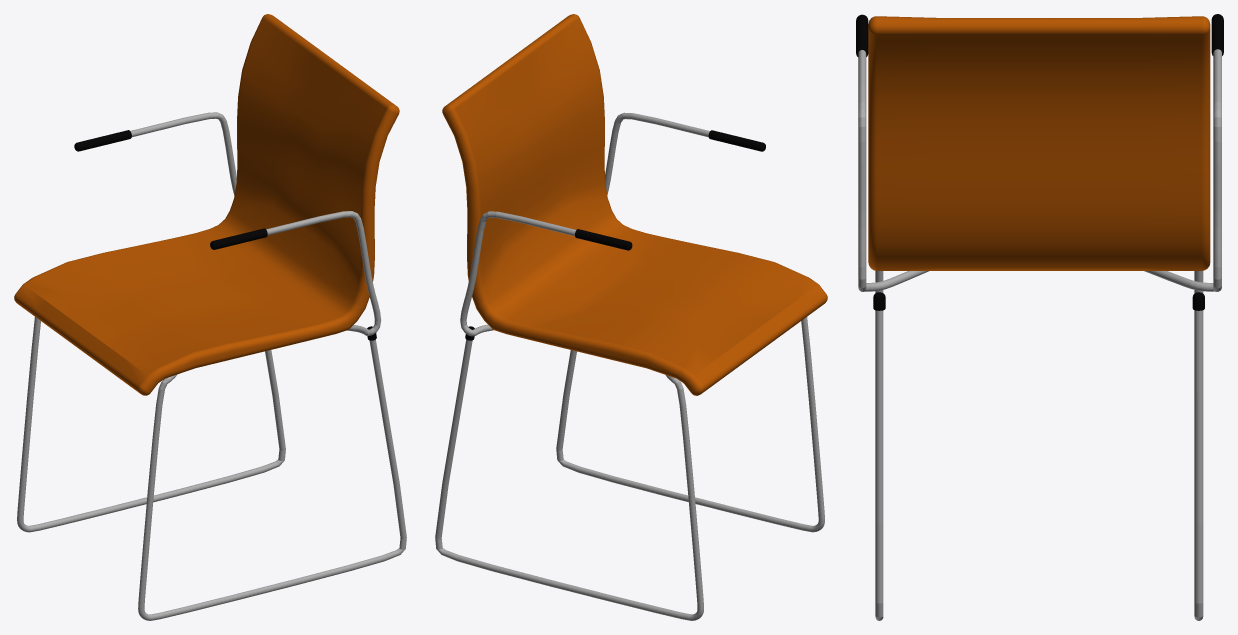
File: chair_plastic.fbx
The picture shows the model from 3 angles, left to right: view 1: azimuth 30°, elevation 25°; view 2: azimuth 150°, elevation 25°; view 3: azimuth 270°, elevation 25°; orthographic projection. The views are drawn at different scales.
Parts seen in each view (by area): view 1: pCube24, pCylinder28, pCylinder27, pCylinder26, pCylinder24; view 2: pCube24, pCylinder27, pCylinder28, pCylinder24, pCylinder26; view 3: pCube24, pCylinder27, pCylinder28.
Part boxes in pixels (left/top/right/bottom): pCube24: left=14, top=14, right=399, bottom=395; pCylinder28: left=138, top=211, right=406, bottom=620; pCylinder27: left=17, top=112, right=285, bottom=532; pCylinder26: left=210, top=228, right=267, bottom=249; pCylinder24: left=74, top=130, right=131, bottom=151; pCube24: left=442, top=14, right=827, bottom=395; pCylinder27: left=435, top=211, right=703, bottom=620; pCylinder28: left=556, top=112, right=824, bottom=532; pCylinder24: left=575, top=229, right=632, bottom=250; pCylinder26: left=708, top=130, right=765, bottom=151; pCube24: left=868, top=16, right=1210, bottom=270; pCylinder27: left=1144, top=49, right=1221, bottom=620; pCylinder28: left=858, top=50, right=928, bottom=620.
Size of the model in its own units: 0.8516 by 1.39 by 0.7628.
